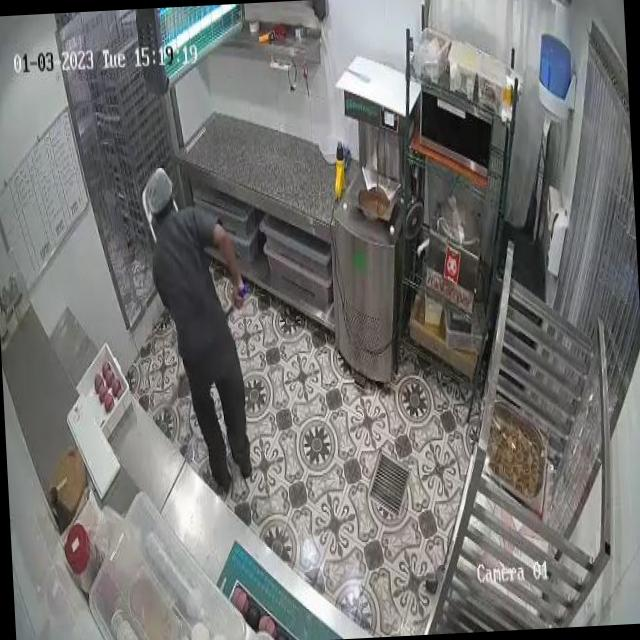hairnet: (140, 170, 173, 216)
